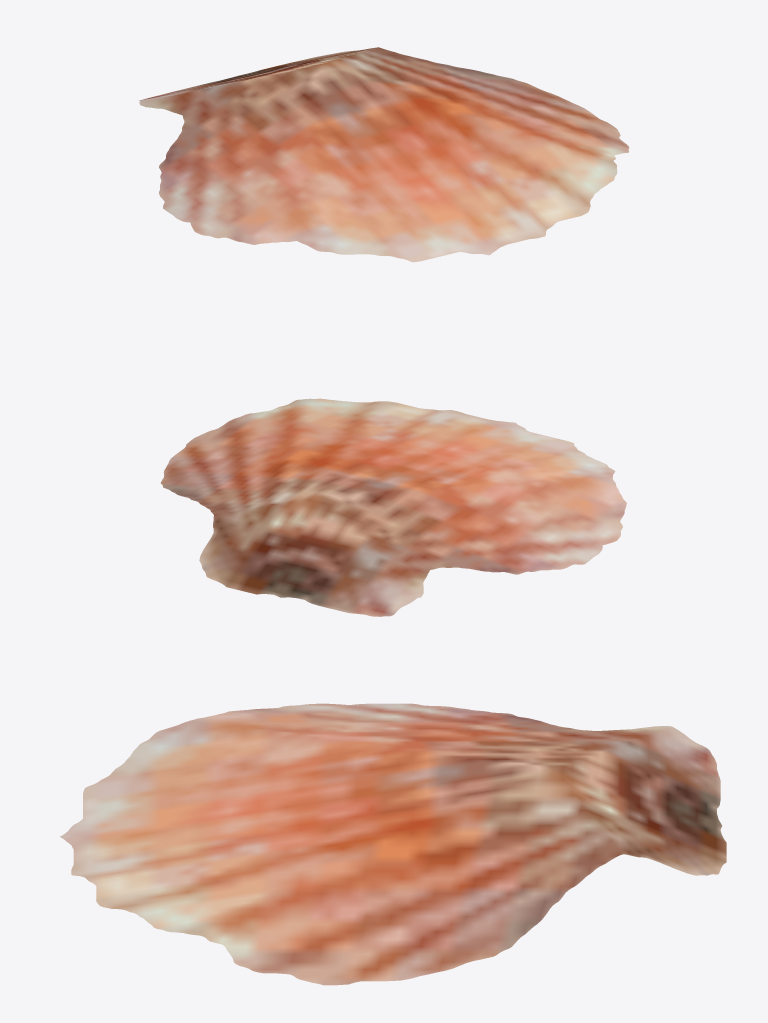
File: shor_seashell_scallop_a3_l0.fbx
3 views of the same model, one above another, from view 1: azimuth 30°, elevation 25°; view 2: azimuth 150°, elevation 25°; view 3: azimuth 270°, elevation 25° (orthographic). The views are drawn at different scales.
Visible parts, largest first — view 1: mesh_node; view 2: mesh_node; view 3: mesh_node.
Part boxes in pixels (x1,y1,x2,y2): mesh_node: (139,47,629,262); mesh_node: (161,398,626,616); mesh_node: (60,703,726,985).
Bounding box in the file's own units: 0.1005 × 0.0123 × 0.1005.
1 material, 1 textured.
